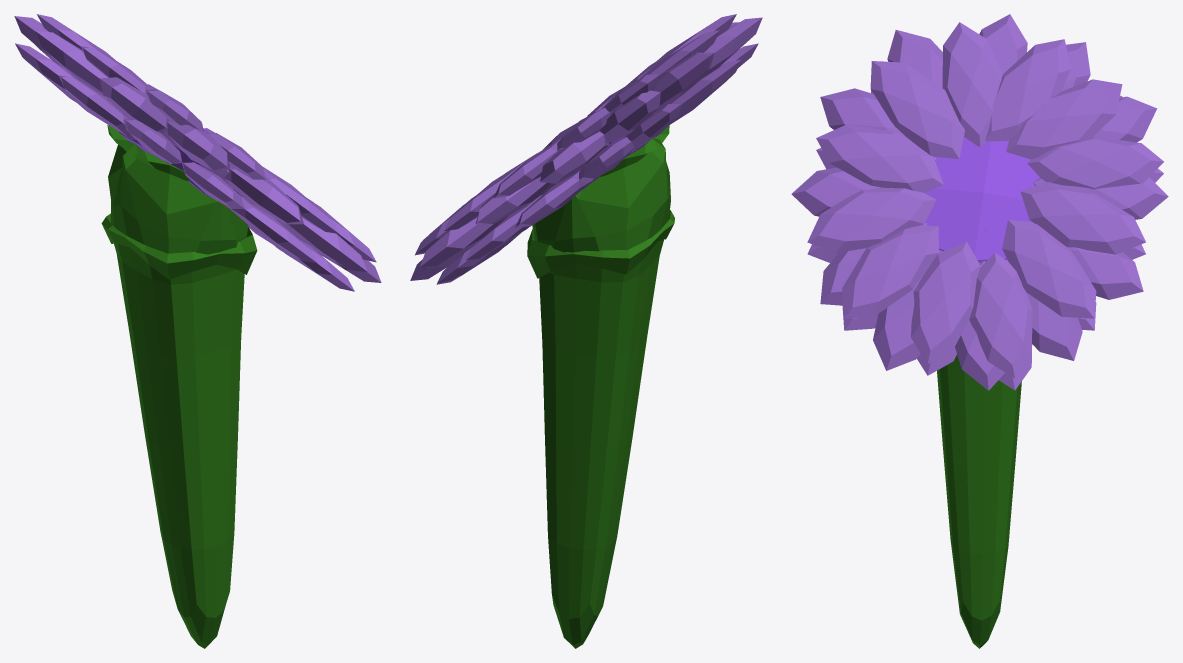
Rendered from PurpleFlower_Separated_v.2.0.fbx.
3 views of the same model, side by side, from view 1: azimuth 30°, elevation 25°; view 2: azimuth 150°, elevation 25°; view 3: azimuth 270°, elevation 25° (orthographic). The views are drawn at different scales.
Parts seen in each view (by area): view 1: Stem, Cube.008, Cube.006, Cube.007, Cube.009, Cube.005, Cube.035, Cube.032, Cube.034, Cube.033, Cube.016, Cube.019 (+7 smaller); view 2: Stem, Cube.002, Cube.005, Cube.003, Cube, Cube.028, Cube.004, Cube.006, Cube.032, Cube.023, Cube.030, Cube.029 (+8 smaller); view 3: Stem, Cube.012, Cube.021, Cube.018, Cube.025, Cube.014, Cube.015, Cube.017, Cube.024, Cube.016, Cube.023, Cube.022 (+14 smaller).
Boxes of the visible parts, x1,y1,x2,y2 form: Stem: (101,125,257,648); Cube.008: (224,166,303,224); Cube.006: (99,77,169,133); Cube.007: (167,121,229,172); Cube.009: (274,218,367,271); Cube.005: (36,31,107,96); Cube.035: (228,196,317,263); Cube.032: (58,75,135,139); Cube.034: (182,162,244,208); Cube.033: (124,119,182,163); Cube.016: (262,166,339,233); Cube.019: (80,46,152,93); Stem: (527,125,674,648); Cube.002: (540,131,609,183); Cube.005: (653,52,714,110); Cube.003: (600,90,660,142); Cube: (420,216,507,266); Cube.028: (515,171,592,227); Cube.004: (475,176,549,224); Cube.006: (701,17,762,78); Cube.032: (670,59,741,124); Cube.023: (494,139,560,198); Cube.030: (466,195,541,260); Cube.029: (579,137,634,182); Stem: (937,229,1021,648); Cube.012: (924,137,1039,262); Cube.021: (1020,182,1145,254); Cube.018: (870,61,964,158); Cube.025: (1002,220,1096,318); Cube.014: (911,241,980,363); Cube.015: (842,225,938,318); Cube.017: (816,125,943,192); Cube.024: (969,253,1032,378); Cube.016: (807,187,936,253); Cube.023: (1027,136,1163,189); Cube.022: (1006,79,1122,159).
Bounding box in the file's own units: 26.55 × 55.1 × 33.12.
